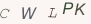C: (1, 8, 10, 19)
K: (74, 2, 88, 16)
L: (47, 7, 58, 19)
P: (62, 2, 74, 15)
W: (20, 6, 38, 20)
